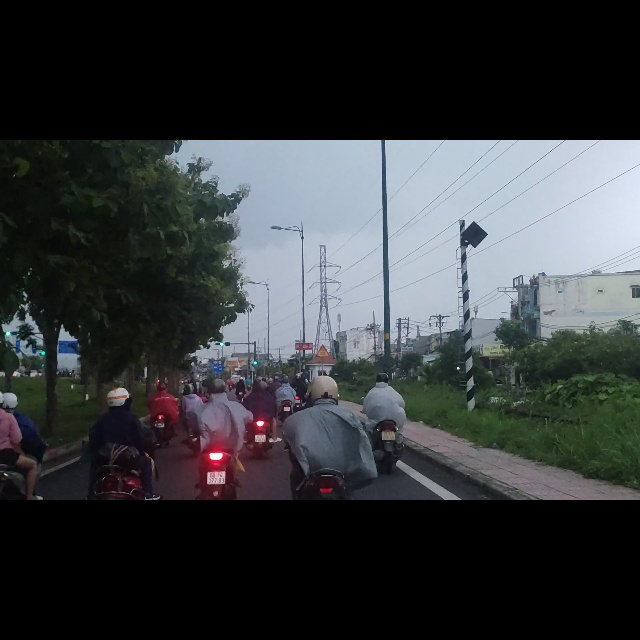bien_chi_dan: (316, 361, 330, 386)
